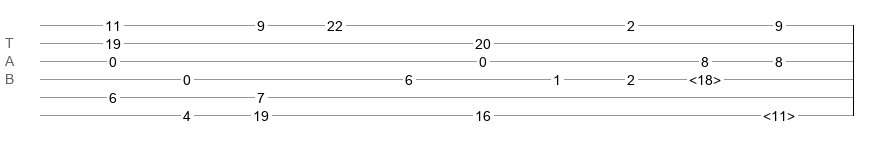0: (109, 54, 117, 64), (183, 72, 191, 82), (479, 54, 487, 64)
1: (553, 72, 561, 82)
11: (105, 18, 121, 28)
16: (475, 108, 491, 118)
19: (105, 36, 121, 46), (253, 108, 269, 118)
2: (627, 72, 635, 82), (627, 18, 635, 28)
20: (475, 36, 491, 46)
22: (327, 18, 343, 28)
4: (183, 108, 191, 118)
6: (109, 90, 117, 100), (405, 72, 413, 82)
7: (257, 90, 265, 100)
8: (701, 54, 709, 64), (775, 54, 783, 64)
9: (257, 18, 265, 28), (775, 18, 783, 28)
harmonic: (689, 72, 721, 82), (763, 108, 795, 118)
